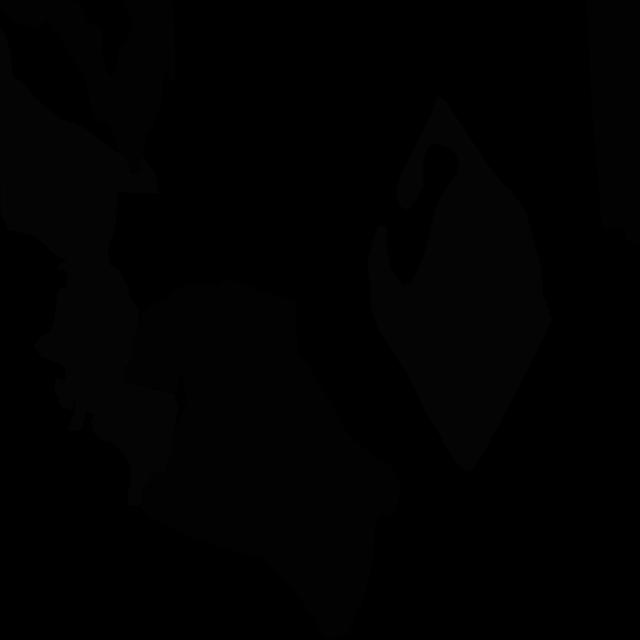cardboard: (173, 280, 401, 640), (586, 0, 640, 246), (140, 453, 260, 559), (124, 282, 216, 393), (238, 282, 299, 353)
soft_plastic: (368, 97, 552, 471), (0, 27, 159, 265), (34, 255, 179, 506)
